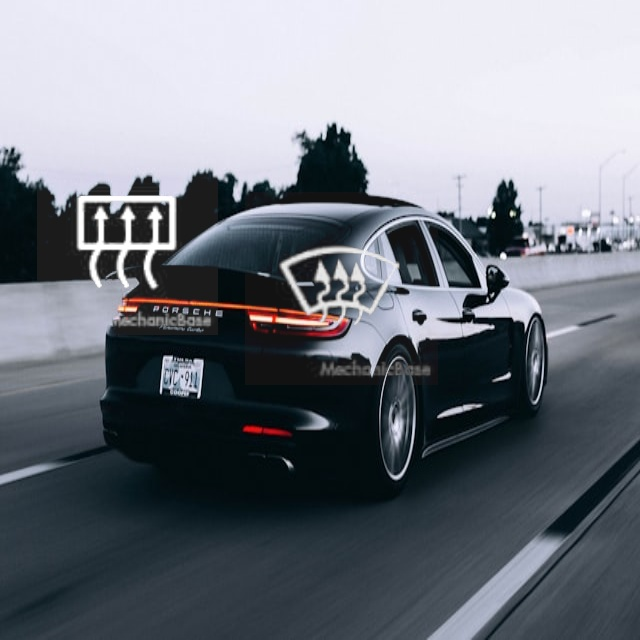symbol: (245, 192, 438, 385), (37, 154, 218, 335)
